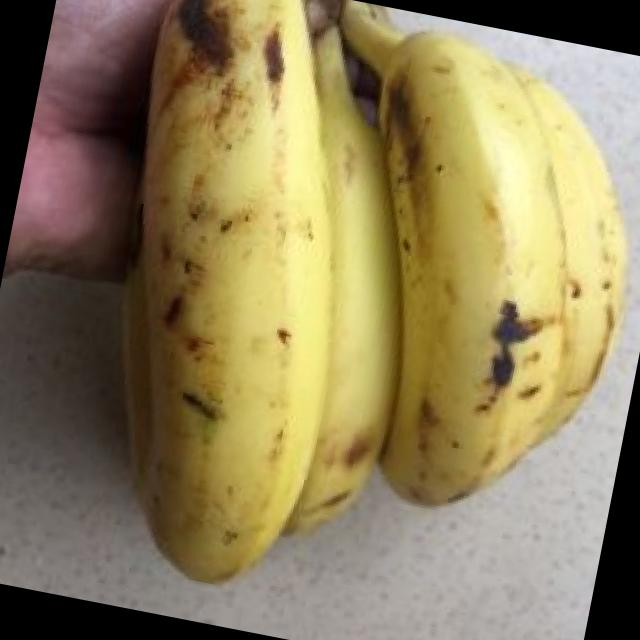banana: (64, 0, 542, 568)
